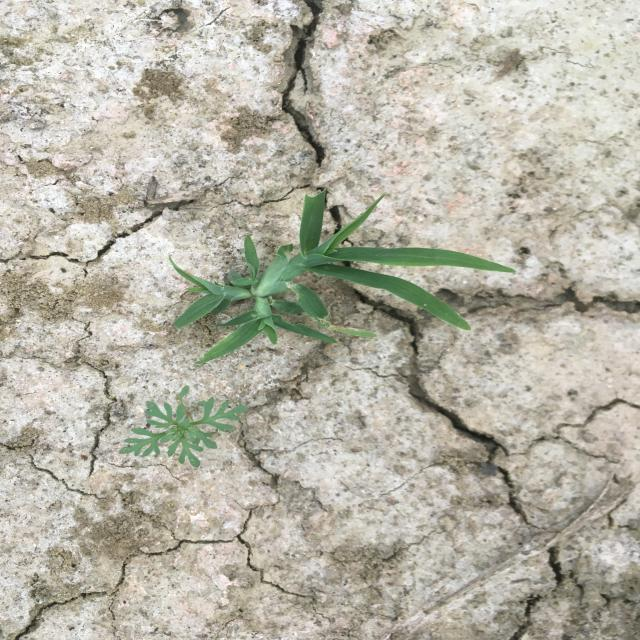Goosegrass: (165, 185, 519, 368)
Ragweed: (117, 385, 249, 469)
